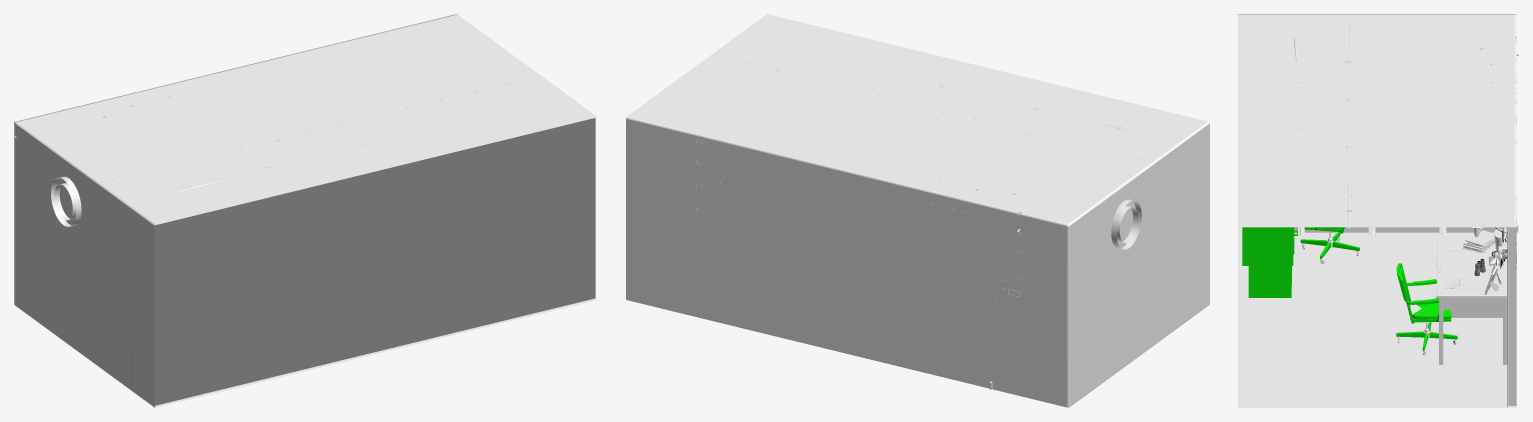
File: captain_scene.fbx
3 renders of one model, left to right at view 1: azimuth 30°, elevation 25°; view 2: azimuth 150°, elevation 25°; view 3: azimuth 270°, elevation 25°, orthographic.
Visible parts, largest first — view 1: Box001, Box001.001, Cylinder005; view 2: Box001, Cylinder005; view 3: Box001, desk, krzeslo_kapitan.004, Object003.001, krzeslo_kapitan.003, papers, Object219, krzeslo_kapitan.001, szafa.
Part boxes in pixels (x1=…): Box001: x1=14, y1=14, x2=597, y2=407; Box001.001: x1=155, y1=118, x2=595, y2=405; Cylinder005: x1=51, y1=176, x2=81, y2=226; Box001: x1=626, y1=14, x2=1209, y2=407; Cylinder005: x1=1111, y1=199, x2=1141, y2=249; Box001: x1=1238, y1=14, x2=1516, y2=407; desk: x1=1436, y1=238, x2=1507, y2=364; krzeslo_kapitan.004: x1=1248, y1=227, x2=1291, y2=297; Object003.001: x1=1297, y1=227, x2=1516, y2=406; krzeslo_kapitan.003: x1=1396, y1=263, x2=1457, y2=355; papers: x1=1439, y1=230, x2=1495, y2=288; Object219: x1=1294, y1=224, x2=1518, y2=232; krzeslo_kapitan.001: x1=1300, y1=227, x2=1359, y2=263; szafa: x1=1242, y1=227, x2=1297, y2=265.
Bounding box in the file's own units: 5.67 × 2.21 × 3.1.
